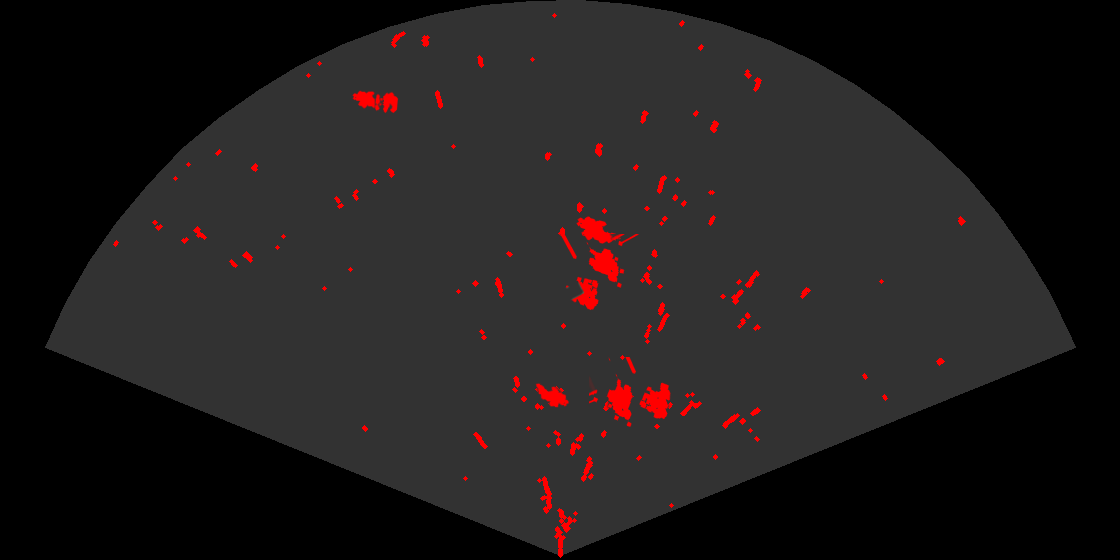AUV: (575, 215, 622, 245), (534, 382, 571, 409), (351, 89, 389, 110)
ball: (374, 90, 400, 115)
cage: (559, 234, 640, 312), (589, 357, 672, 429)
